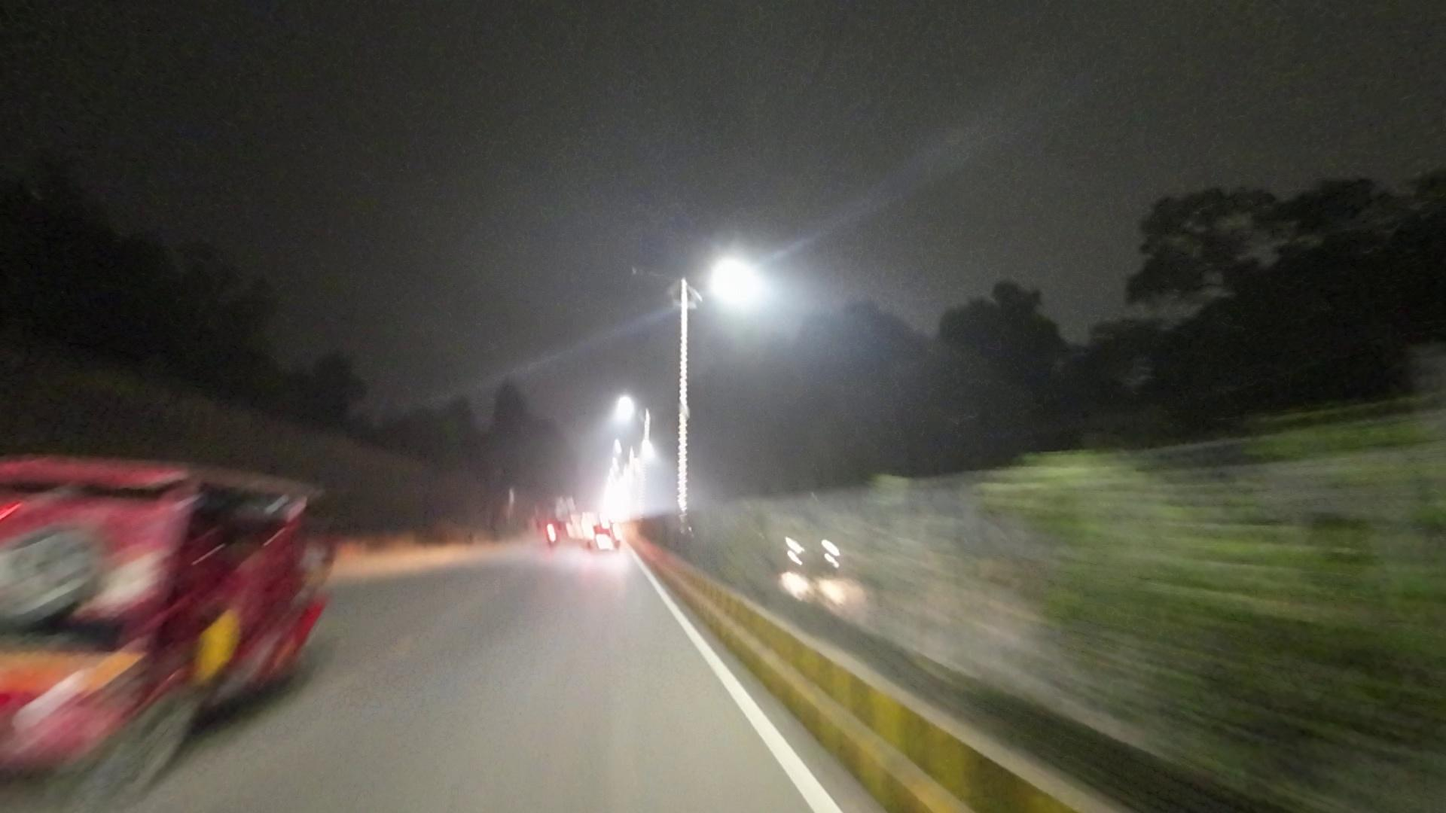streetlight: (627, 262, 678, 284)
